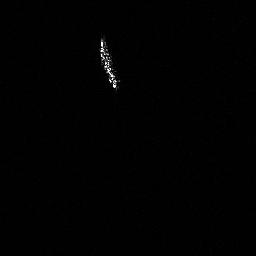ship: (96, 34, 123, 92)
